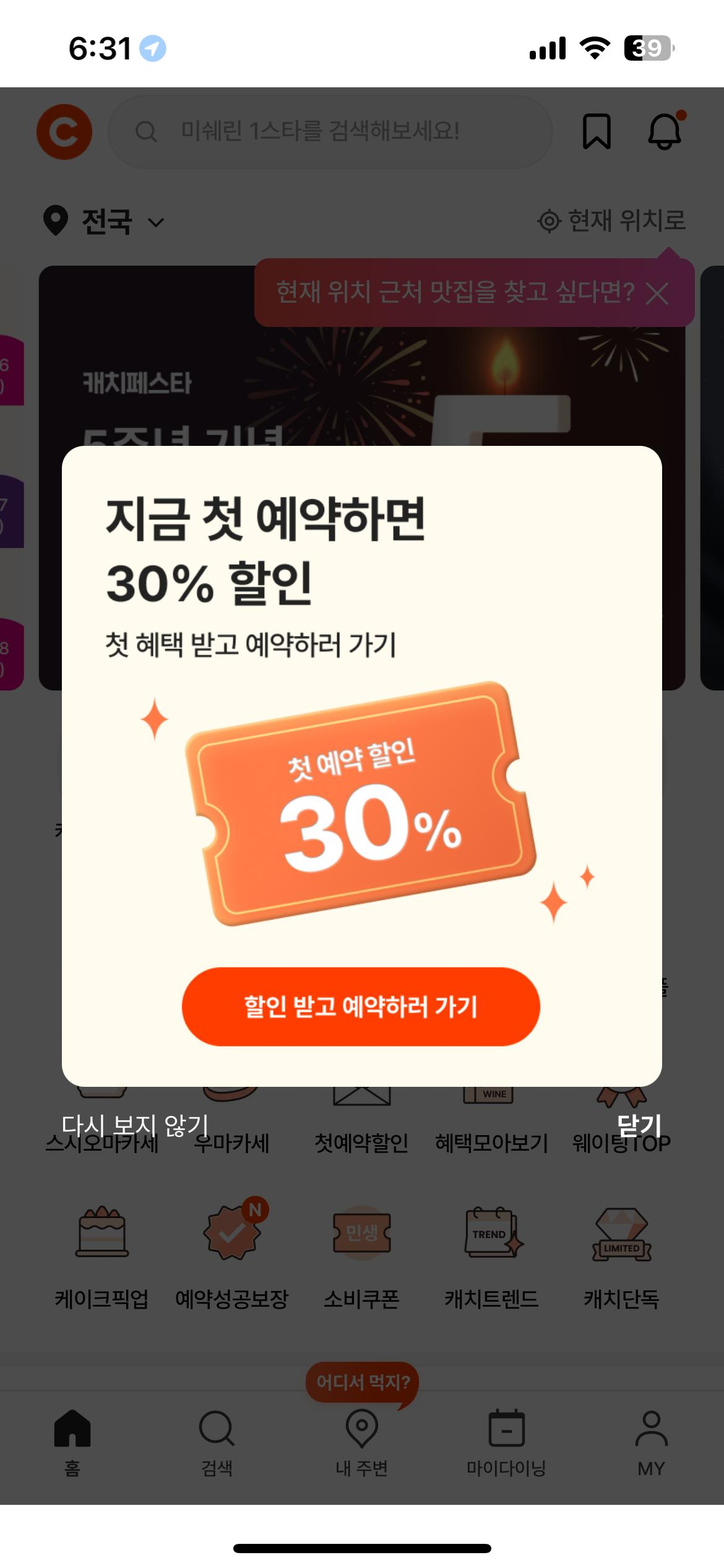button: (293, 1354, 431, 1499), (167, 1193, 299, 1317), (47, 1201, 157, 1325), (439, 1199, 542, 1317), (582, 1193, 674, 1321), (324, 1201, 406, 1321), (458, 1400, 559, 1492), (536, 194, 689, 248), (608, 1402, 693, 1497), (54, 1100, 225, 1146), (177, 1400, 254, 1488), (37, 1400, 111, 1490), (604, 1100, 683, 1156), (37, 99, 97, 165), (646, 101, 695, 165), (571, 103, 621, 157), (639, 277, 677, 316), (146, 198, 175, 242)
input_field: (128, 95, 563, 175)
popup: (54, 431, 679, 1092)
